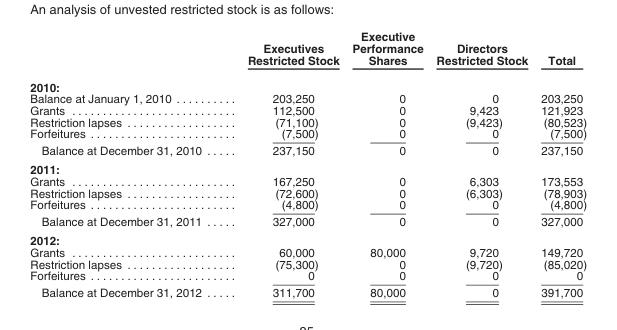table: (29, 29, 586, 298)
table column: (29, 29, 224, 298), (224, 29, 345, 298), (429, 29, 533, 298), (345, 29, 429, 298), (533, 29, 586, 298)
table column header: (29, 29, 586, 72)
table projected row header: (29, 72, 586, 92), (29, 159, 586, 175), (29, 230, 586, 246)
table row: (29, 29, 586, 72), (29, 72, 586, 92), (29, 141, 586, 159), (29, 212, 586, 230), (29, 159, 586, 175), (29, 230, 586, 246), (29, 283, 586, 298), (29, 127, 586, 141), (29, 198, 586, 212), (29, 269, 586, 283), (29, 92, 586, 104), (29, 115, 586, 127), (29, 186, 586, 198), (29, 257, 586, 269), (29, 104, 586, 115), (29, 175, 586, 186), (29, 246, 586, 257)
